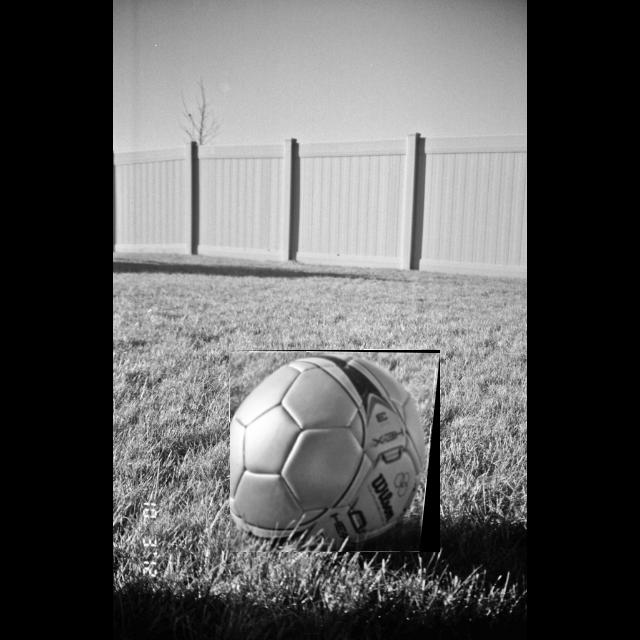Football: (230, 350, 440, 552)
